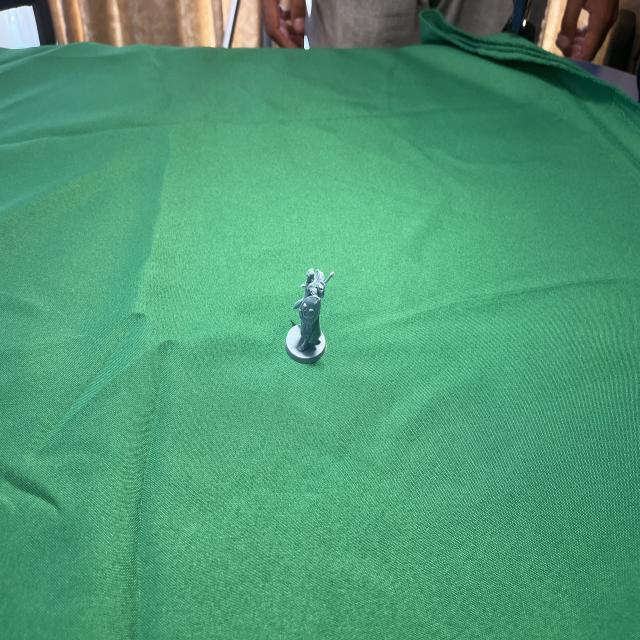isis_follower: (283, 266, 332, 367)
